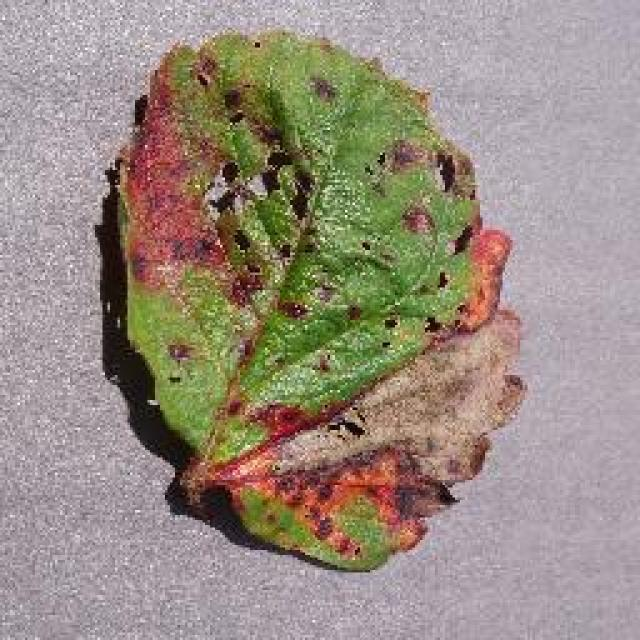Strawberry leaf scorch: (143, 118, 485, 475)
